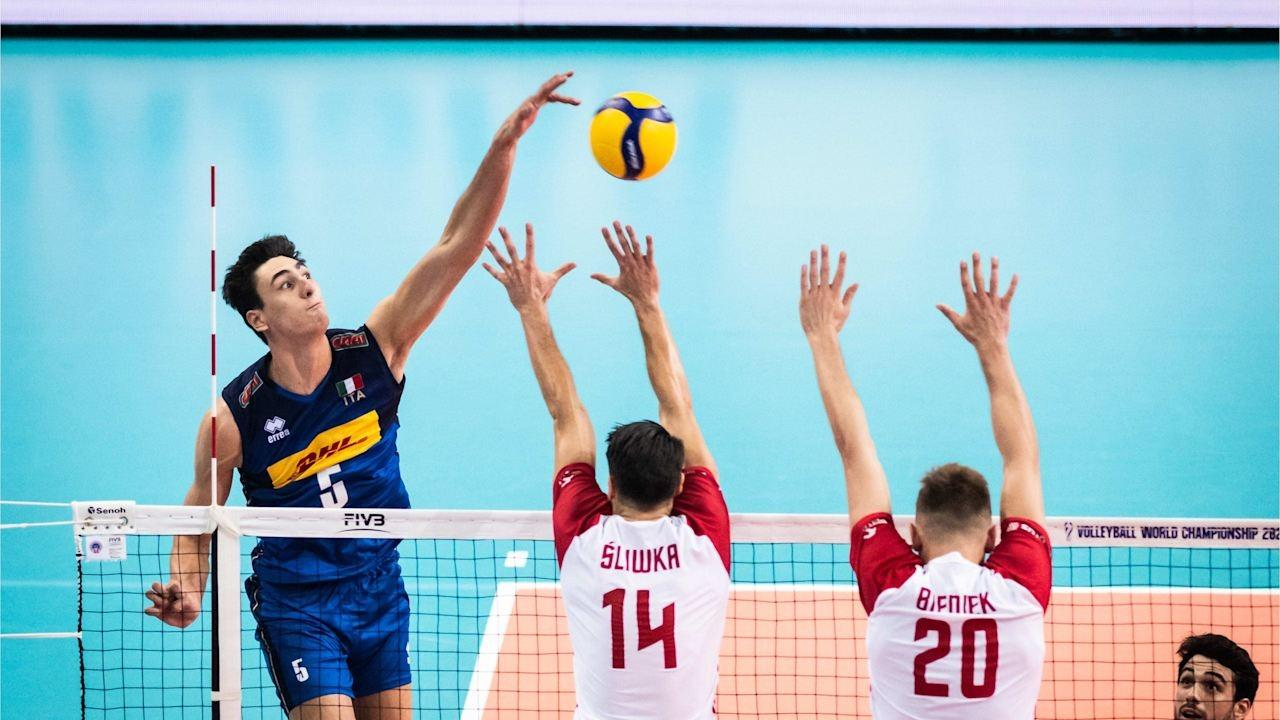ballon_volley: (588, 89, 679, 182)
